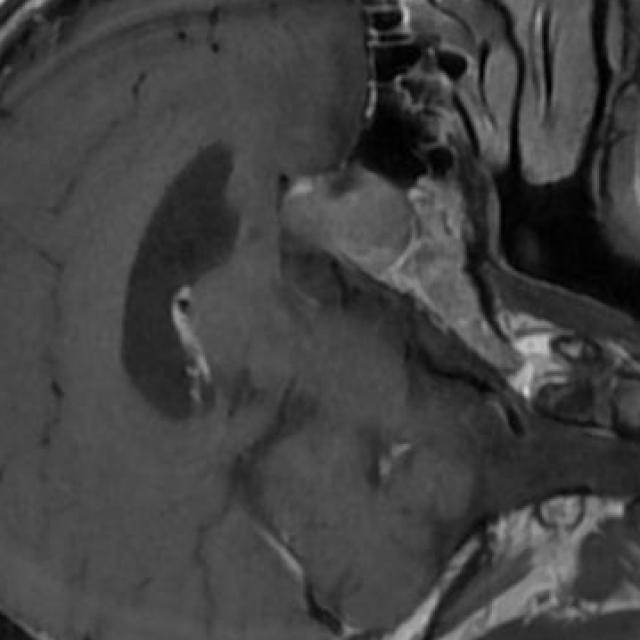pituitary: (283, 168, 414, 273)
